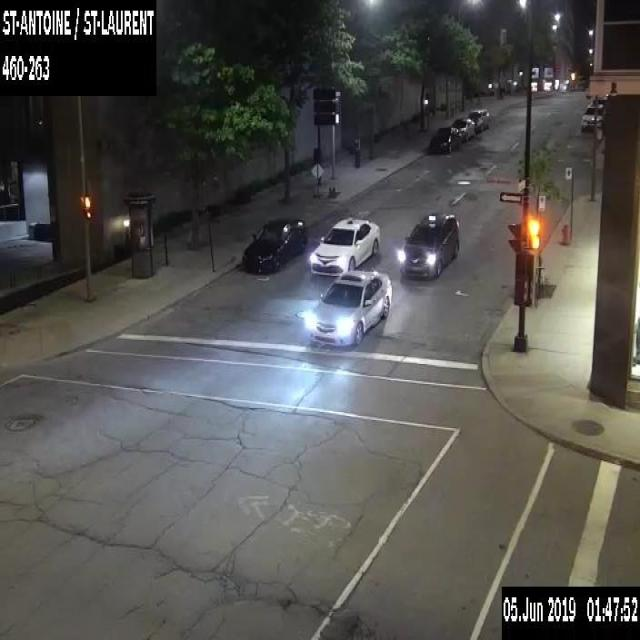vehicle: (307, 269, 392, 345), (309, 215, 379, 275), (398, 211, 459, 277), (241, 215, 307, 273), (428, 126, 462, 152), (579, 103, 603, 129), (450, 116, 474, 140), (466, 107, 488, 132)
